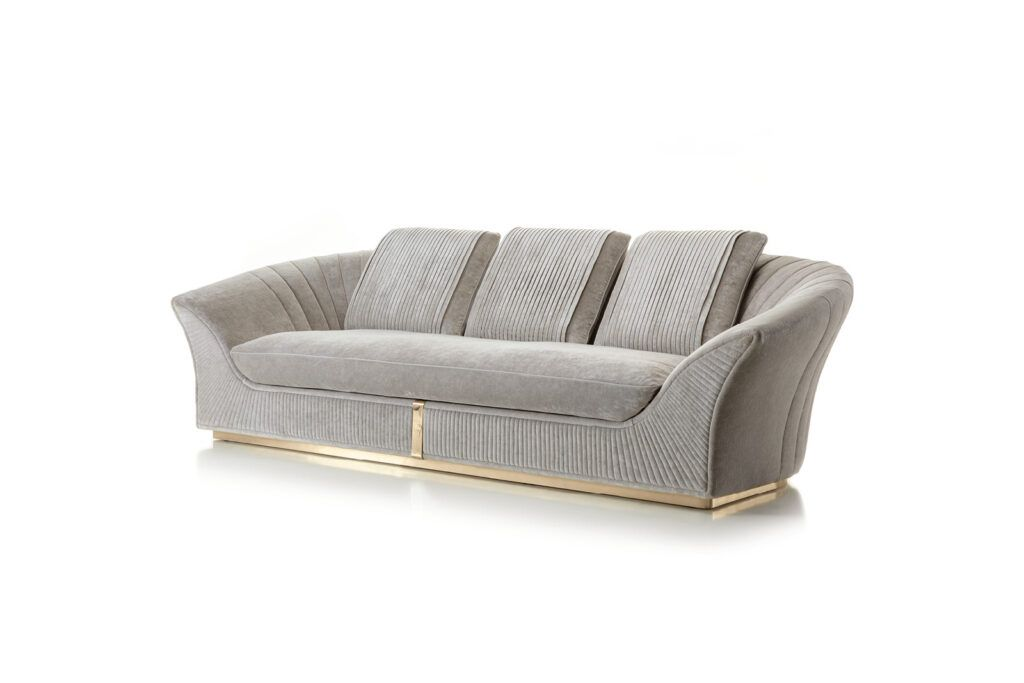3seatersofa: (173, 228, 852, 508)
backrest: (345, 228, 754, 353)
base: (222, 387, 682, 493)
leftarmrest: (639, 257, 851, 493)
leg: (214, 431, 783, 508)
rightarmrest: (172, 252, 370, 427)
seat: (231, 330, 682, 421)
